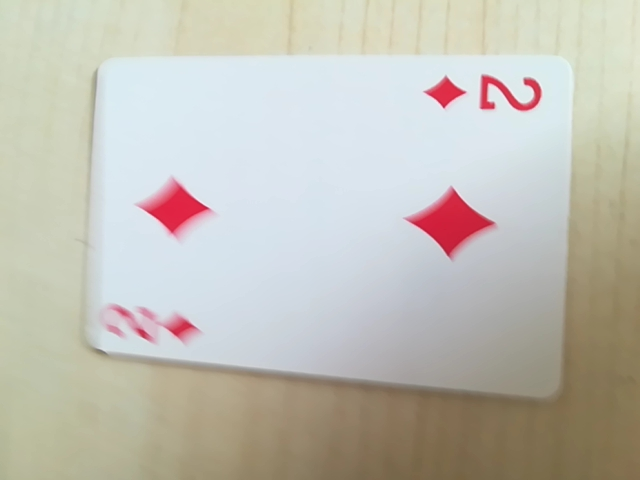fk 2: (419, 65, 548, 122)
